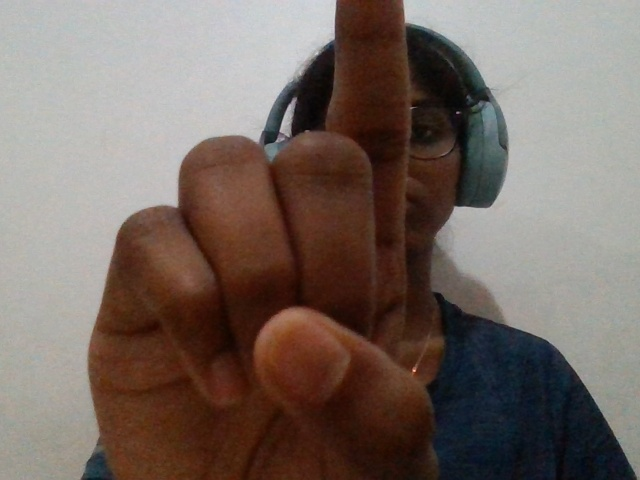D: (73, 8, 454, 471)
